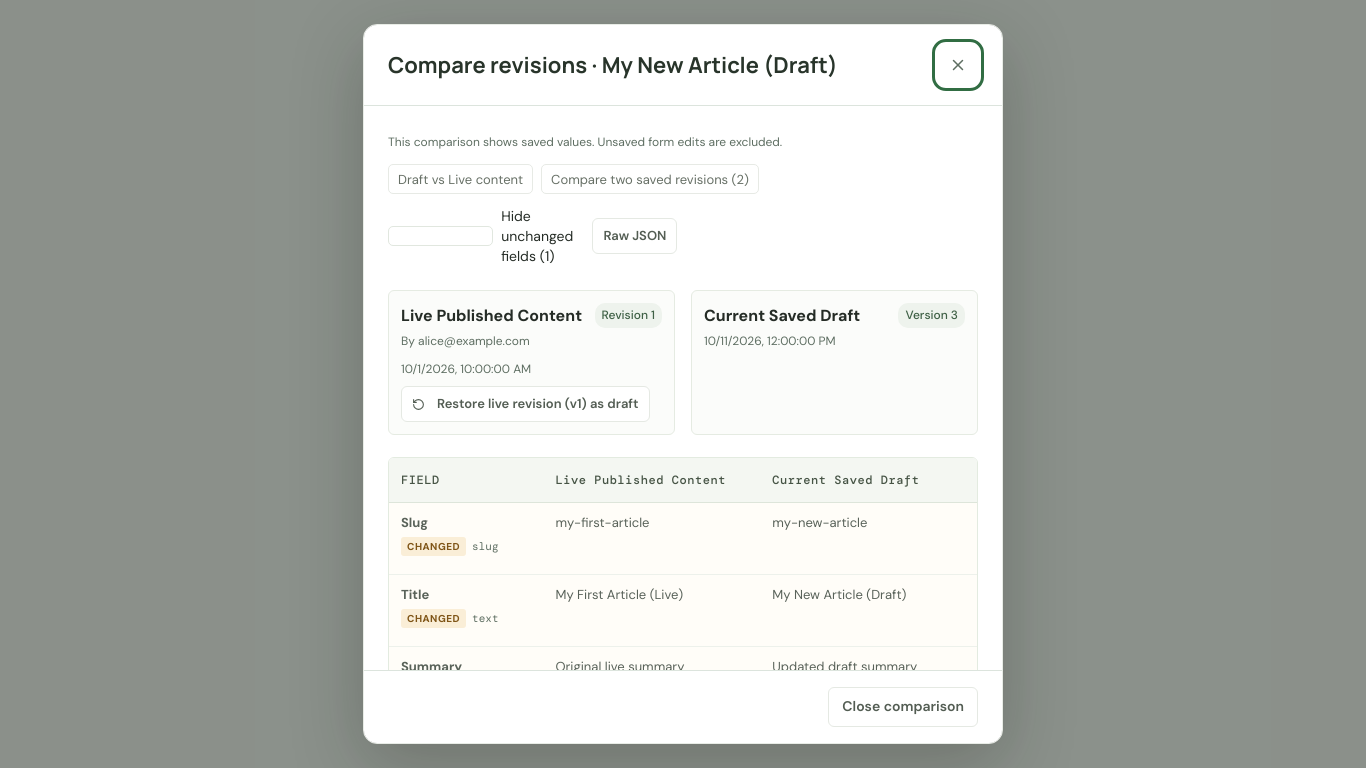
returns Cancel focus to the left restore opener without restoring
This screenshot has width=1366, height=768.
Click the tab "Compare two saved revisions (2)": [650, 179] box [541,164,759,194]
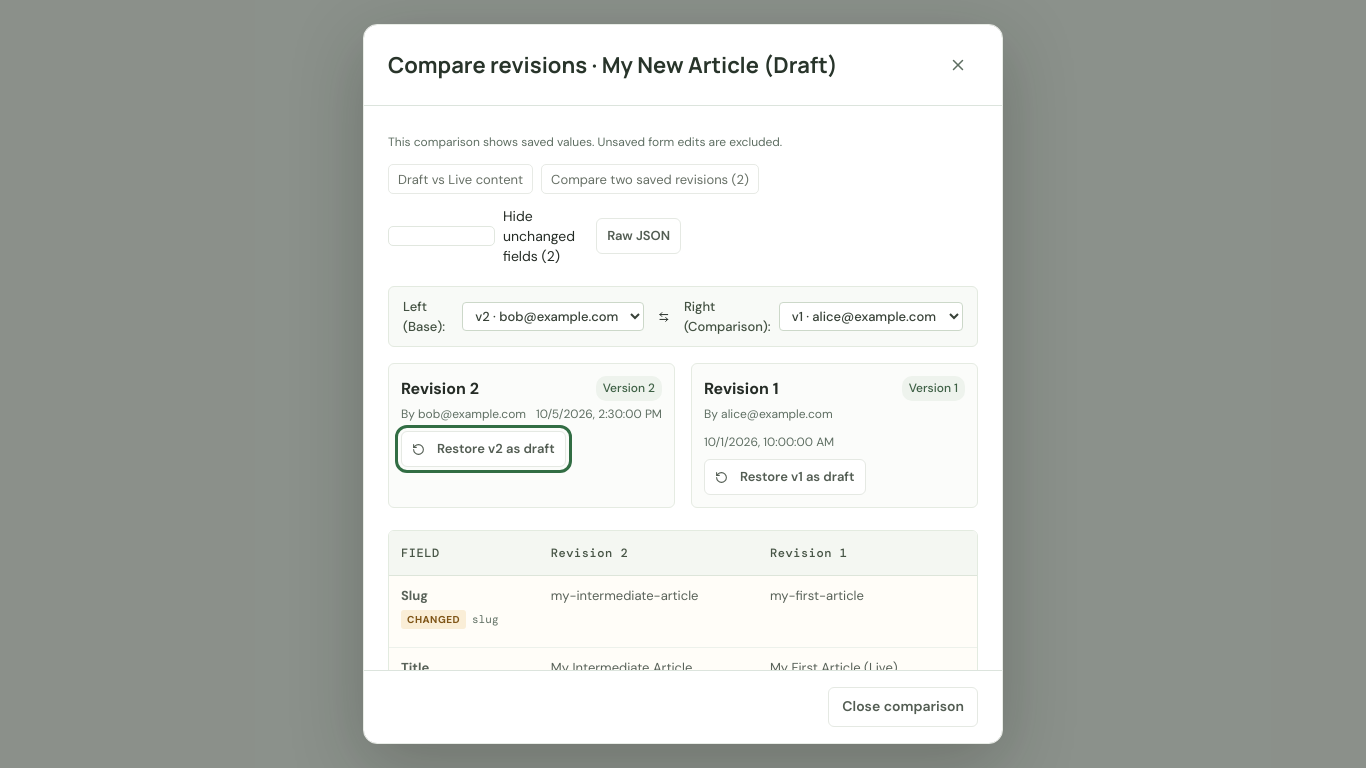
Click the button "Restore v2 as draft": [483, 449] box [401,431,566,467]
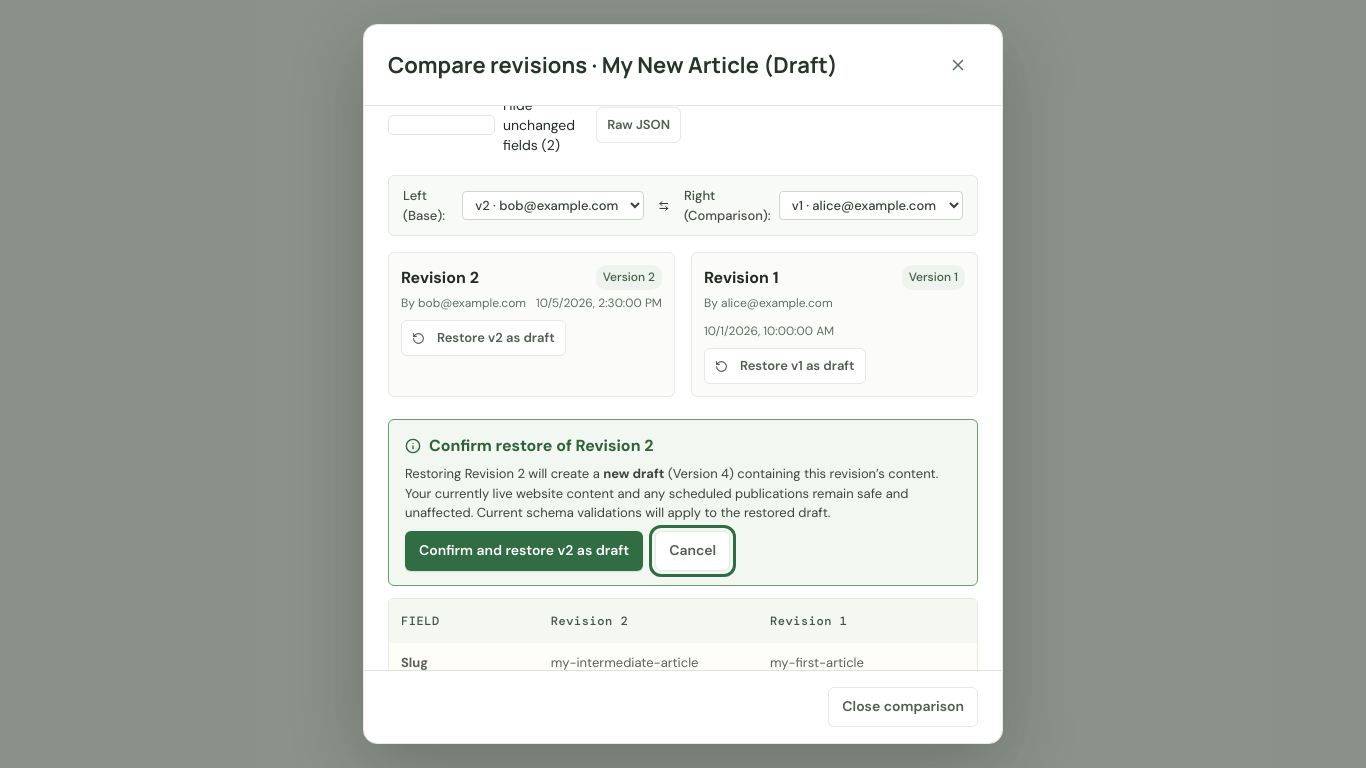
Click the button "Cancel": [693, 551] box [655,531,730,571]
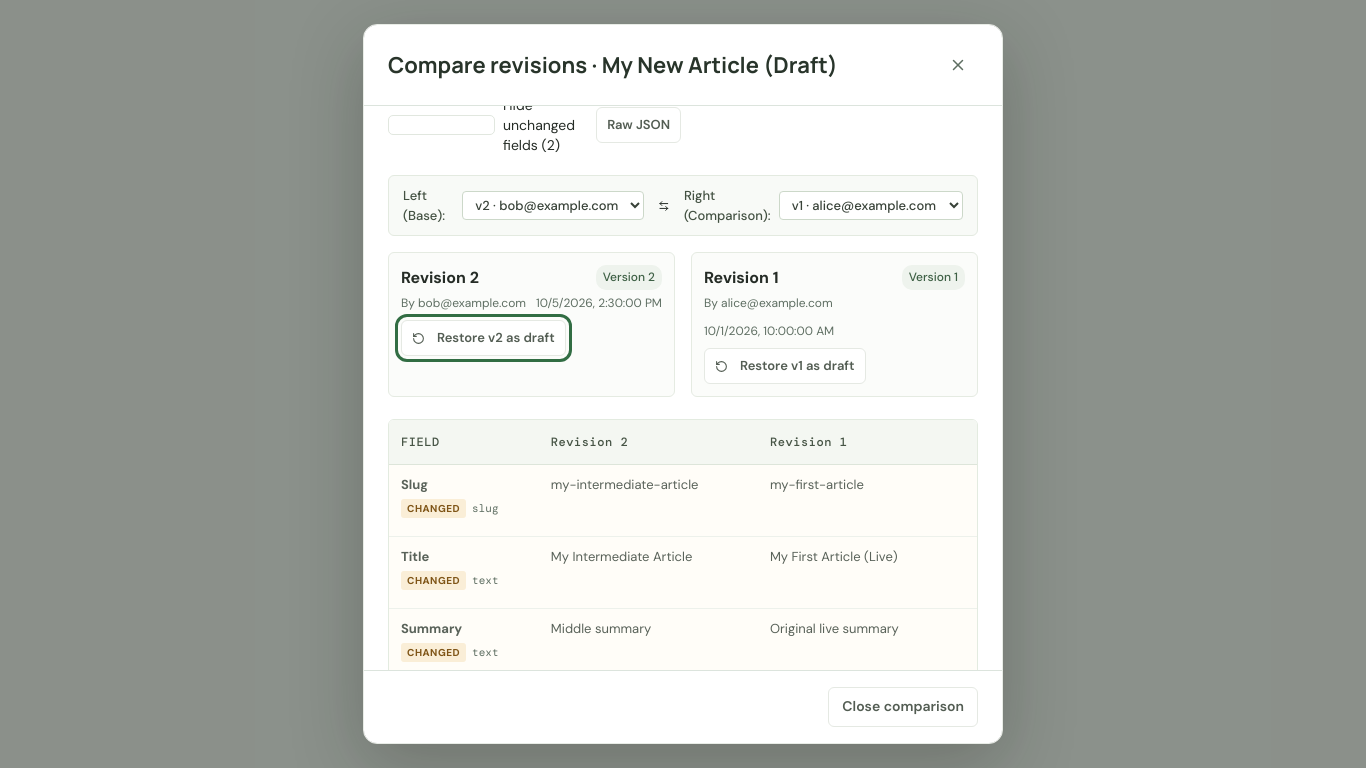
Expected: the button "Cancel" is gone
